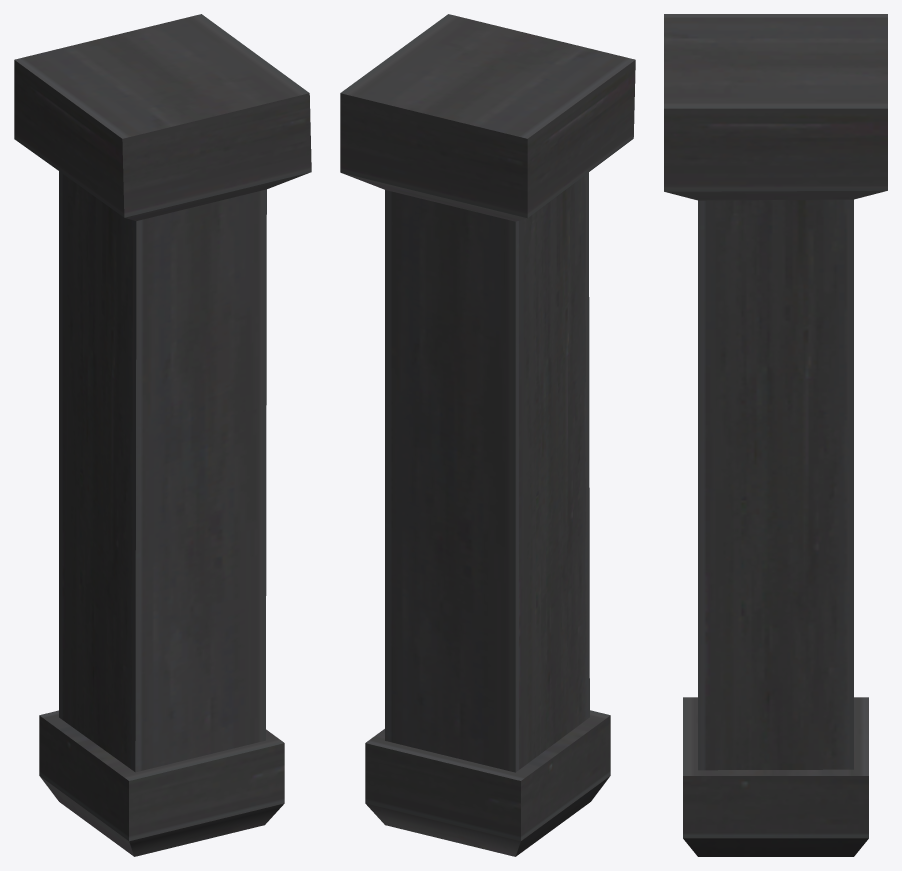
Rendered from Homeworld_Interior_Dq_Room_Pillar_03_Vo.fbx.
3 views of the same model, side by side, from view 1: azimuth 30°, elevation 25°; view 2: azimuth 150°, elevation 25°; view 3: azimuth 270°, elevation 25° (orthographic). The views are drawn at different scales.
Visible parts, largest first — view 1: Homeworld_Interior_Dq_Room_Pillar_03_Vo; view 2: Homeworld_Interior_Dq_Room_Pillar_03_Vo; view 3: Homeworld_Interior_Dq_Room_Pillar_03_Vo.
Boxes of the visible parts, x1,y1,x2,y2 form: Homeworld_Interior_Dq_Room_Pillar_03_Vo: (14,14,311,856); Homeworld_Interior_Dq_Room_Pillar_03_Vo: (340,14,635,856); Homeworld_Interior_Dq_Room_Pillar_03_Vo: (664,14,887,856).
Bounding box in the file's own units: 0.6871 × 2.56 × 0.68.
